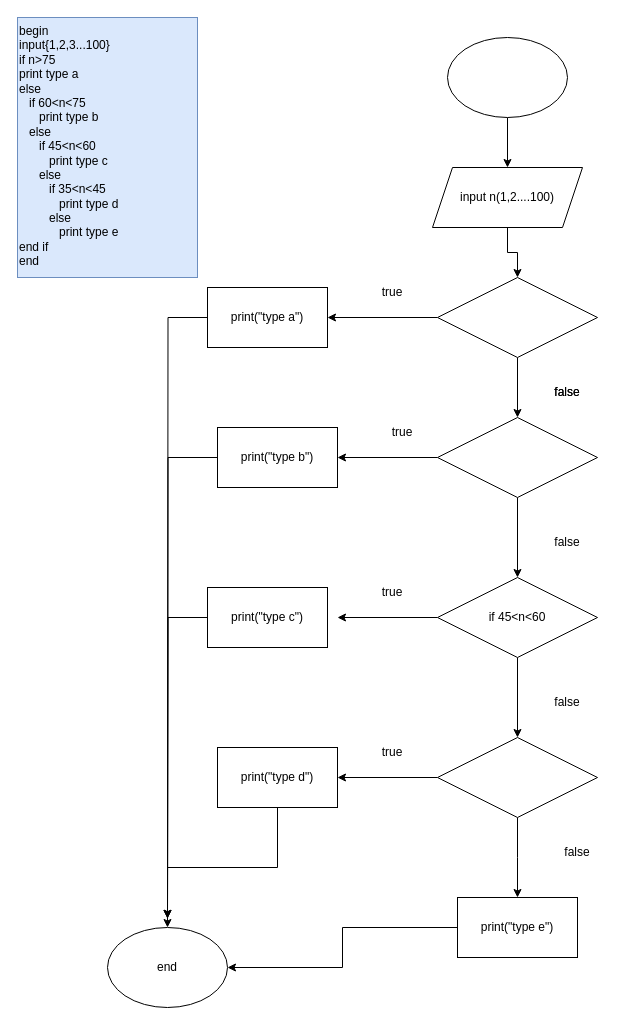
Some shapes in this 625 by 1025 pixel diagram are drawn without their labels. Each missing label, with the centre of its shape:
"Begin" belongs at point 507,77.
"if 35<n<45" belongs at point 517,777.
"if 60<n<75" belongs at point 517,457.
"if n>75" belongs at point 517,317.
